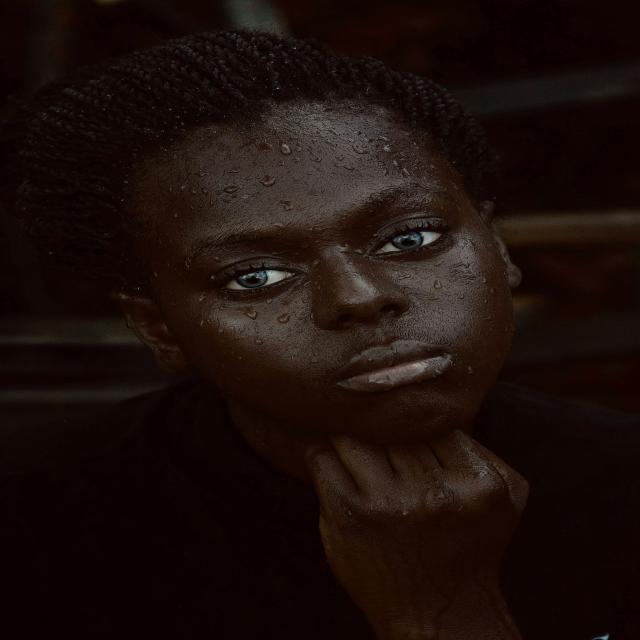piel: (110, 103, 531, 640)
